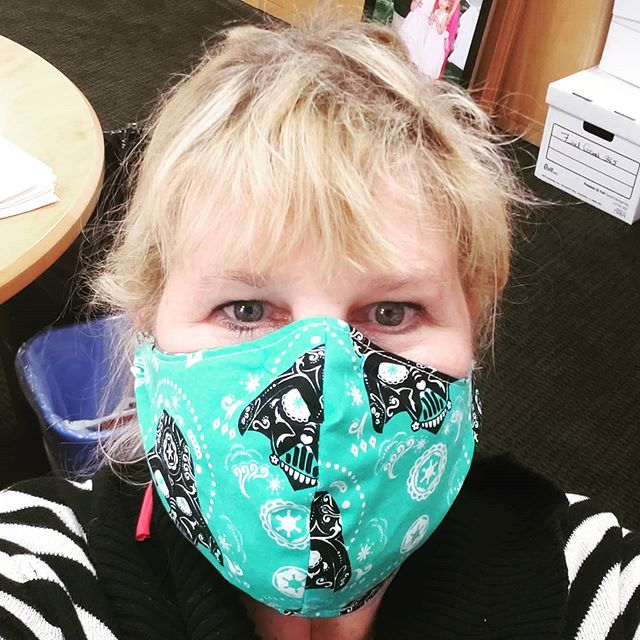homemade: (130, 325, 501, 618)
